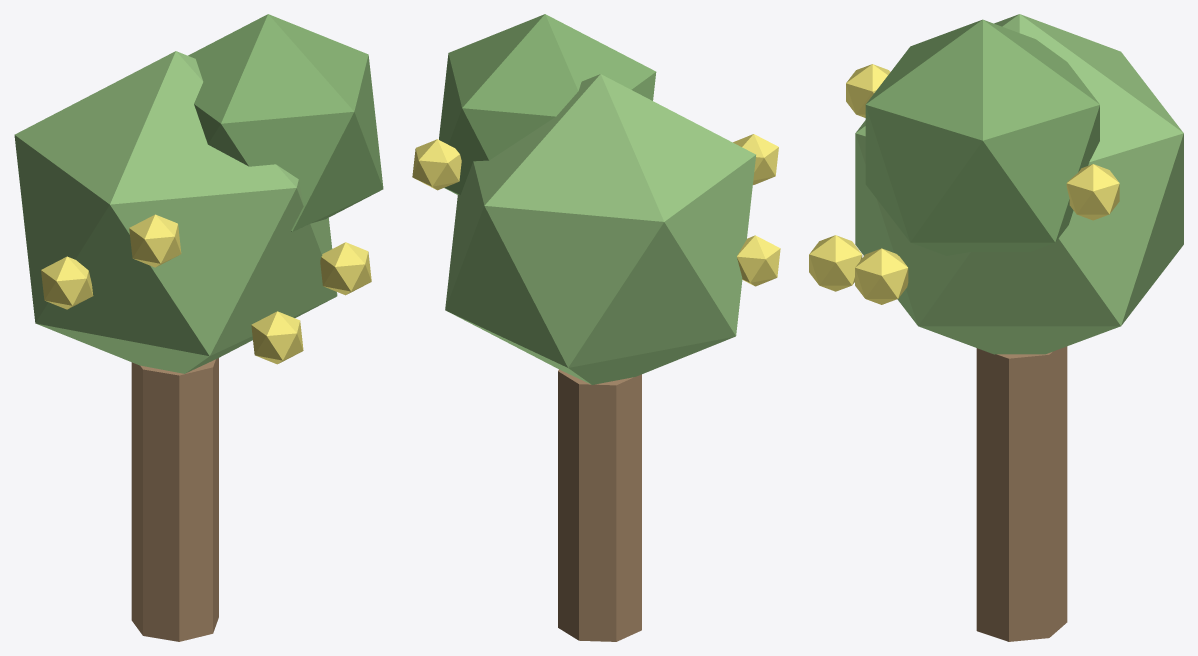
File: tree_fruit_lemon.glb
The picture shows the model from 3 angles, left to right: view 1: azimuth 30°, elevation 25°; view 2: azimuth 150°, elevation 25°; view 3: azimuth 270°, elevation 25°; orthographic projection. The views are drawn at different scales.
Visible parts, largest first — view 1: tree_fruit; view 2: tree_fruit; view 3: tree_fruit.
Boxes of the visible parts, bbox=[...] form: tree_fruit: bbox=[14, 14, 383, 641]; tree_fruit: bbox=[412, 14, 780, 641]; tree_fruit: bbox=[809, 14, 1183, 641].
Size of the model in its own units: 2.22 by 3.85 by 2.04.
